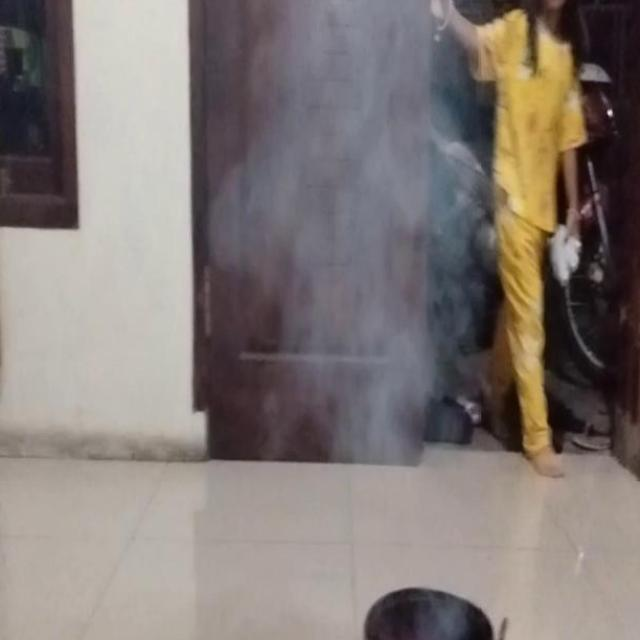fire: (207, 0, 472, 457)
